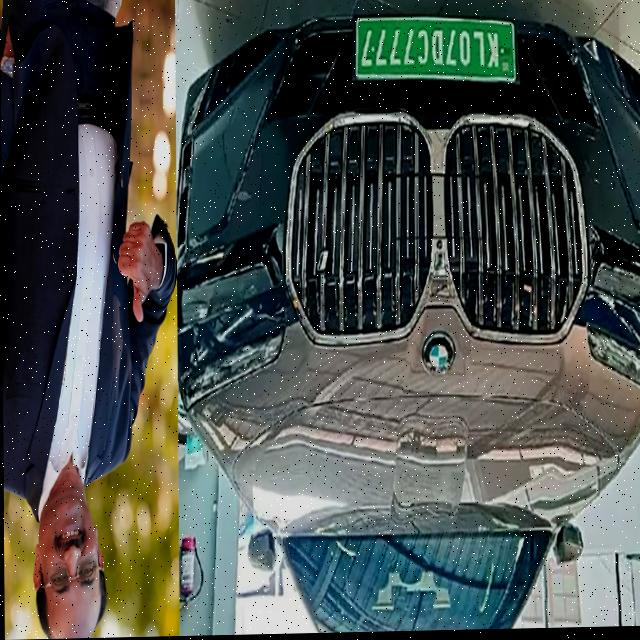plate: (354, 15, 520, 91)
